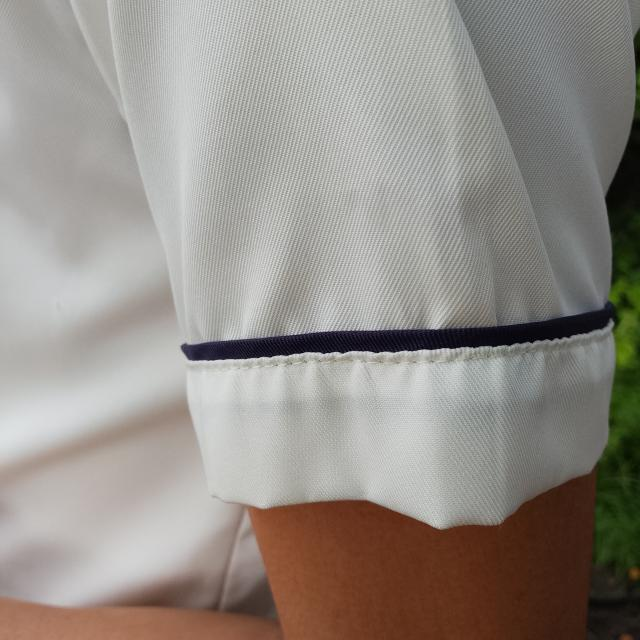education_male_uniform: (8, 0, 640, 561)
